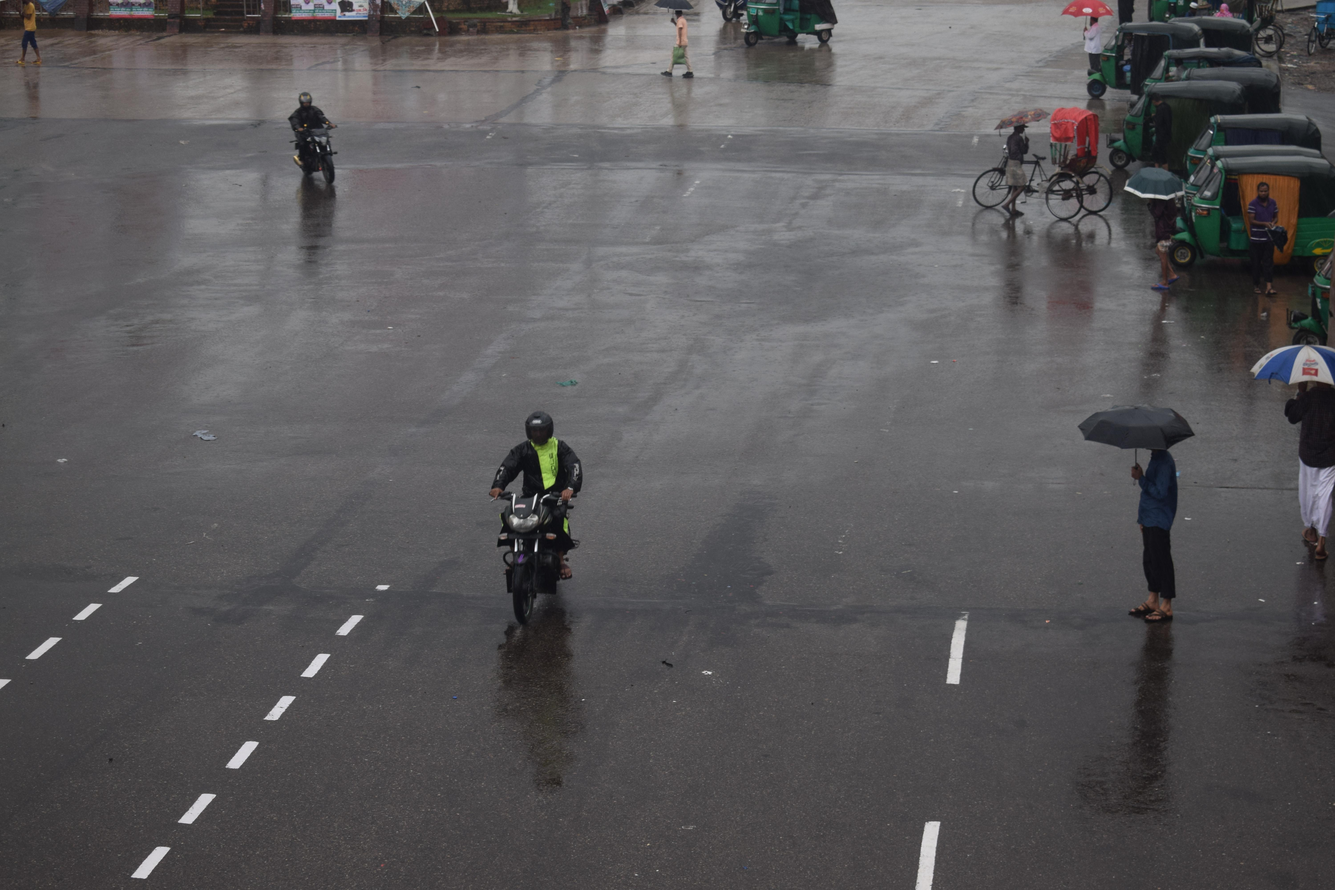Bike: (446, 409, 615, 658), (241, 61, 417, 220)
Car: (921, 92, 1133, 253), (1140, 122, 1335, 293), (1096, 77, 1249, 186), (705, 0, 889, 78), (1067, 11, 1204, 97)
